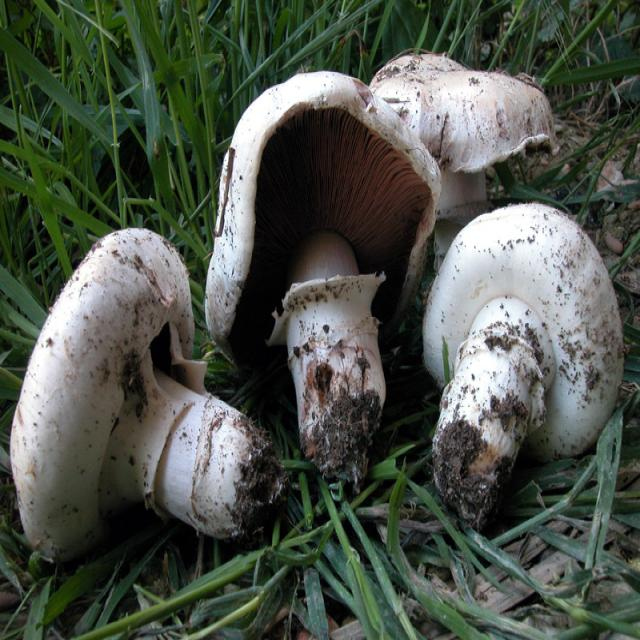field-mushroom: (205, 72, 440, 489), (8, 228, 286, 573), (422, 203, 625, 537), (369, 53, 559, 253)
